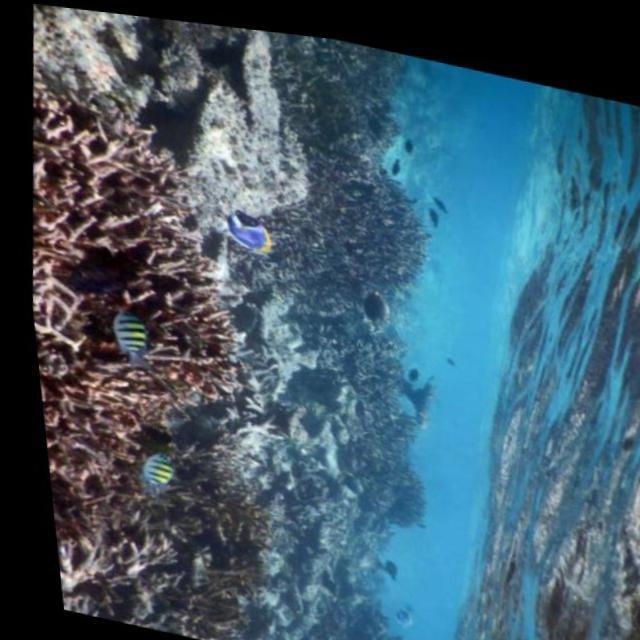Dead Coral: (11, 122, 253, 483), (154, 15, 323, 230), (299, 154, 434, 299)
